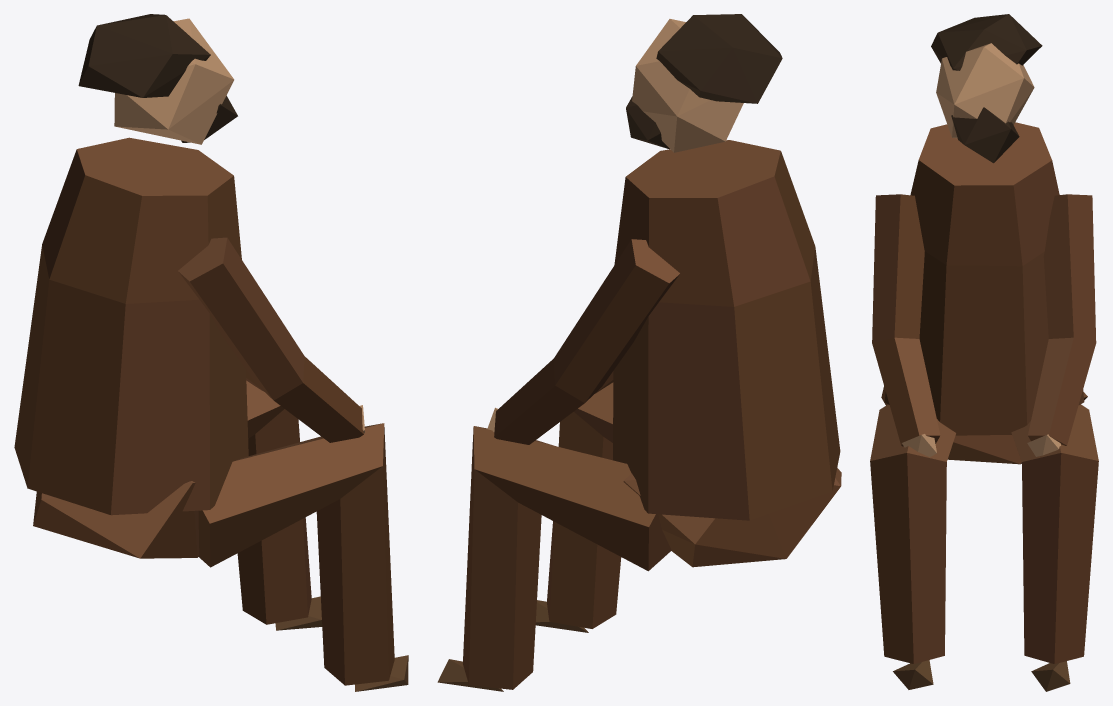
Rendered from disciple.glb.
3 views of the same model, side by side, from view 1: azimuth 30°, elevation 25°; view 2: azimuth 150°, elevation 25°; view 3: azimuth 270°, elevation 25° (orthographic). The views are drawn at different scales.
Parts seen in each view (by area): view 1: base, head_m; view 2: base, head_m; view 3: base, head_m.
Part boxes in pixels (bbox=[...]): base: bbox=[14, 137, 408, 691]; head_m: bbox=[78, 14, 237, 144]; base: bbox=[437, 140, 841, 691]; head_m: bbox=[626, 14, 782, 152]; base: bbox=[870, 122, 1098, 691]; head_m: bbox=[931, 14, 1042, 163].
Size of the model in its own units: 0.267 by 0.5105 by 0.1824.
